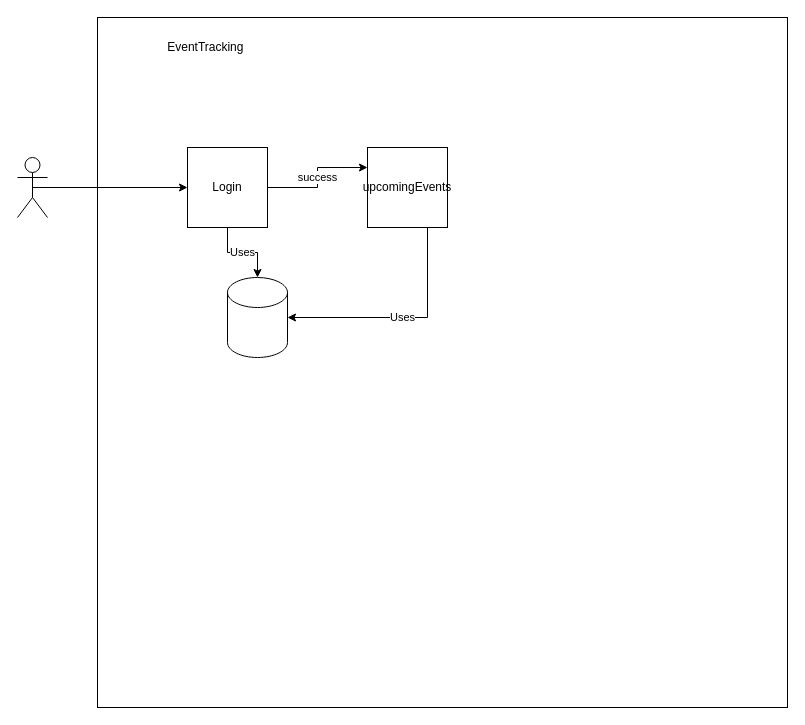
Image size: 805x725. Some labels were removed from this diagram. The shapes that lost their labels are listed below. From the top down, each one's centre as x and y in pixels, then its label:
[32,187]: Actor
[257,317]: EventDB
